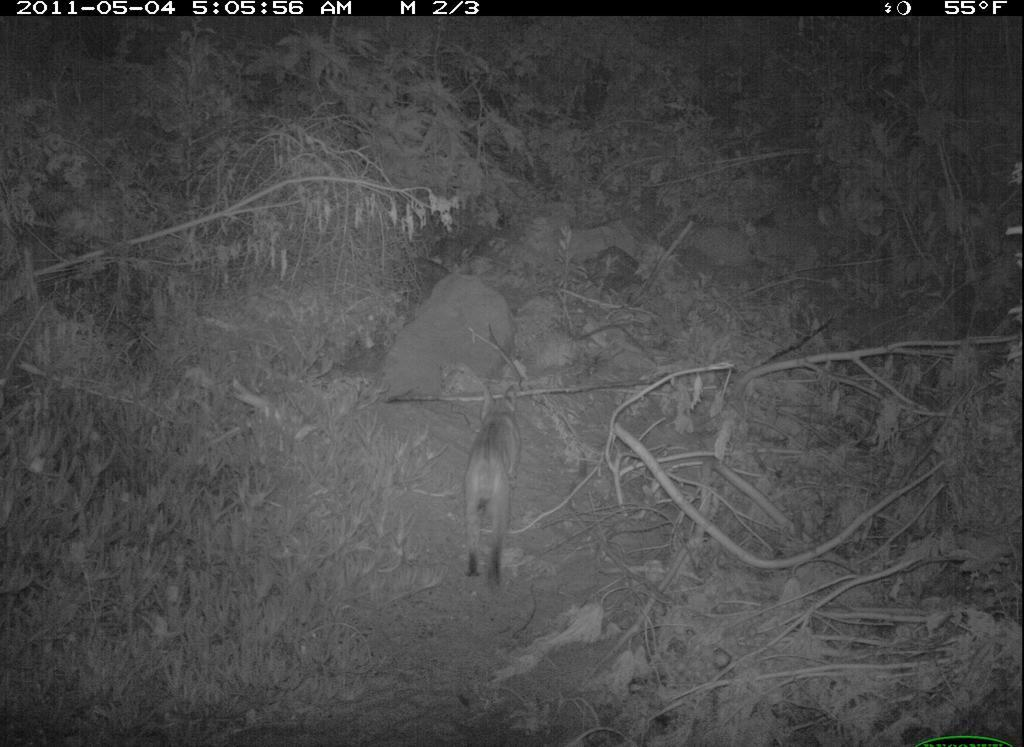bobcat: (451, 372, 532, 594)
